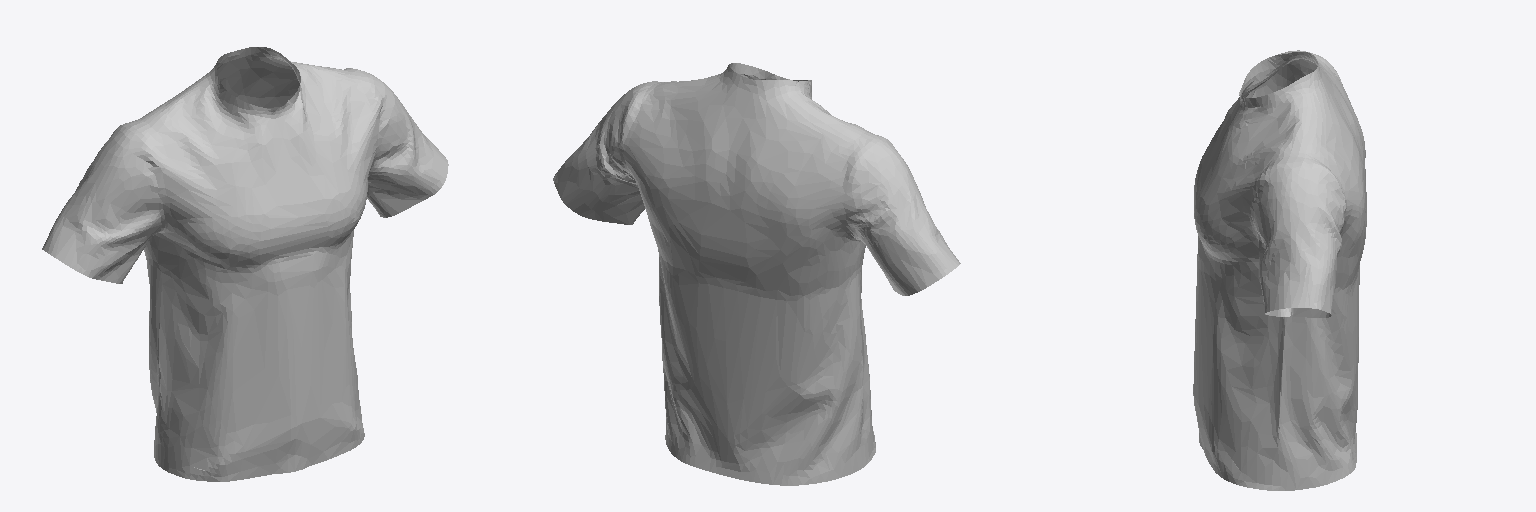
File: TShirt_collision.obj
3 renders of one model, left to right at view 1: azimuth 30°, elevation 25°; view 2: azimuth 150°, elevation 25°; view 3: azimuth 270°, elevation 25°, orthographic.
Parts seen in each view (by area): view 1: T_Shirt; view 2: T_Shirt; view 3: T_Shirt.
Boxes of the visible parts, x1,y1,x2,y2 form: T_Shirt: [42, 47, 448, 481]; T_Shirt: [553, 63, 960, 485]; T_Shirt: [1193, 50, 1366, 490].
Bounding box in the file's own units: 24.87 × 23.16 × 9.43.